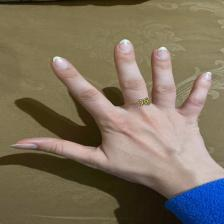five: (13, 36, 219, 181)
